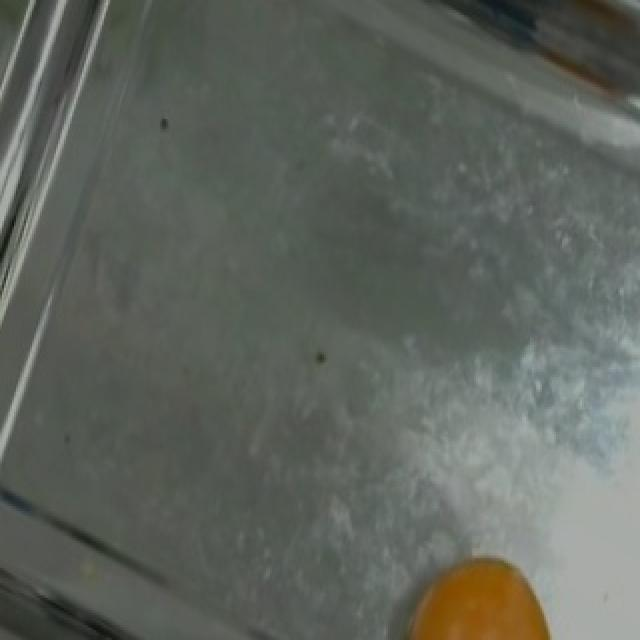Fruit: (388, 543, 570, 640)
